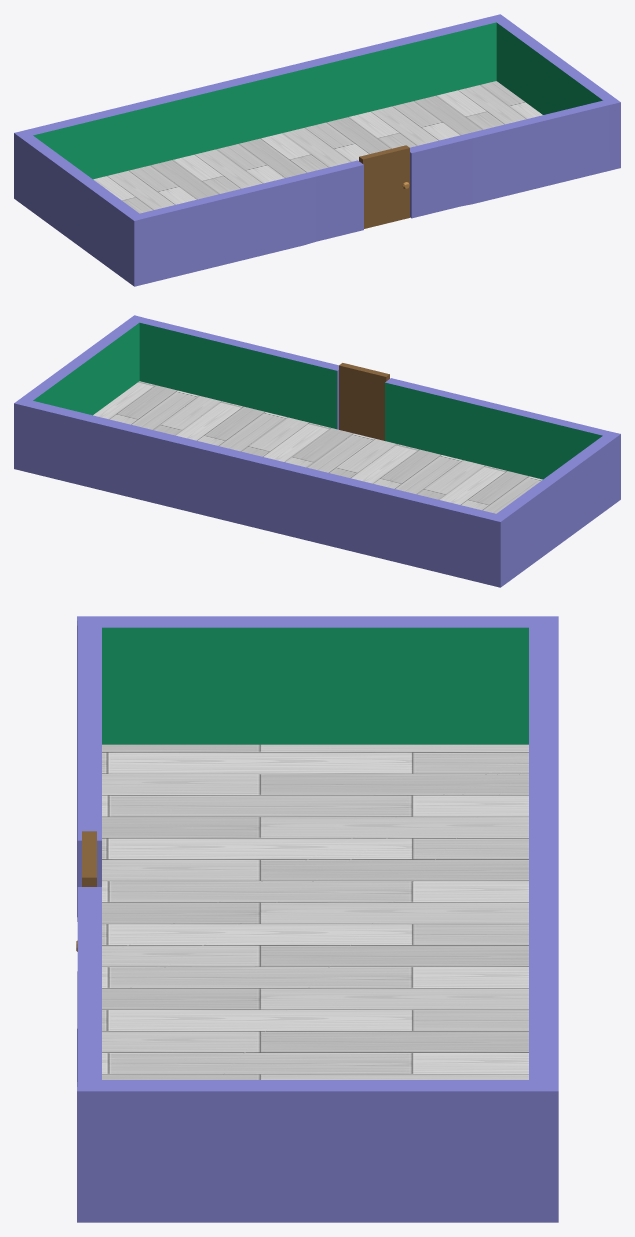
Rendered from M_HOUSE_ORGINIZER_2.fbx.
3 renders of one model, top to bottom at view 1: azimuth 30°, elevation 25°; view 2: azimuth 150°, elevation 25°; view 3: azimuth 270°, elevation 25°, orthographic. The views are drawn at different scales.
Visible parts, largest first — view 1: home_3, floor_3, door_3_2; view 2: home_3, floor_3, door_3_2; view 3: home_3, floor_3, door_3_2.
Boxes of the visible parts, x1=… form: home_3: x1=14, y1=14, x2=620, y2=286; floor_3: x1=93, y1=81, x2=542, y2=213; door_3_2: x1=359, y1=145, x2=409, y2=228; home_3: x1=14, y1=315, x2=620, y2=587; floor_3: x1=93, y1=381, x2=542, y2=513; door_3_2: x1=339, y1=363, x2=389, y2=440; home_3: x1=77, y1=616, x2=558, y2=1222; floor_3: x1=102, y1=744, x2=528, y2=1079; door_3_2: x1=76, y1=831, x2=96, y2=951.
Bounding box in the file's own units: 6361 × 878 × 2729.
